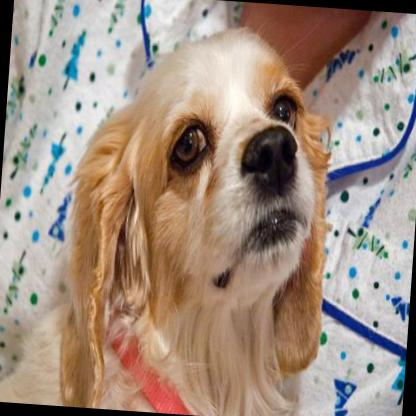cocker_spaniel: (0, 7, 342, 416)
